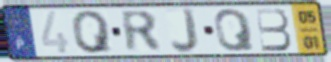4: (39, 10, 72, 56)
B: (253, 6, 294, 53)
J: (169, 6, 201, 55)
Q: (70, 9, 116, 56), (212, 7, 258, 53)
R: (118, 9, 165, 55)
